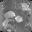people: (2, 19, 13, 29), (4, 10, 16, 18), (15, 15, 23, 23)
